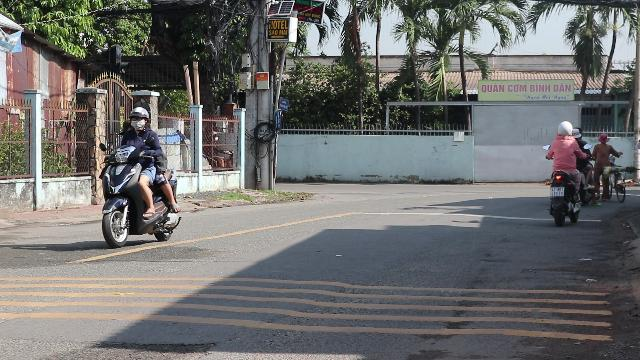helmet: (128, 107, 150, 131), (555, 121, 573, 138)
licenseplate: (550, 186, 564, 196)
motorcyclist: (96, 106, 182, 250), (544, 120, 584, 224)
